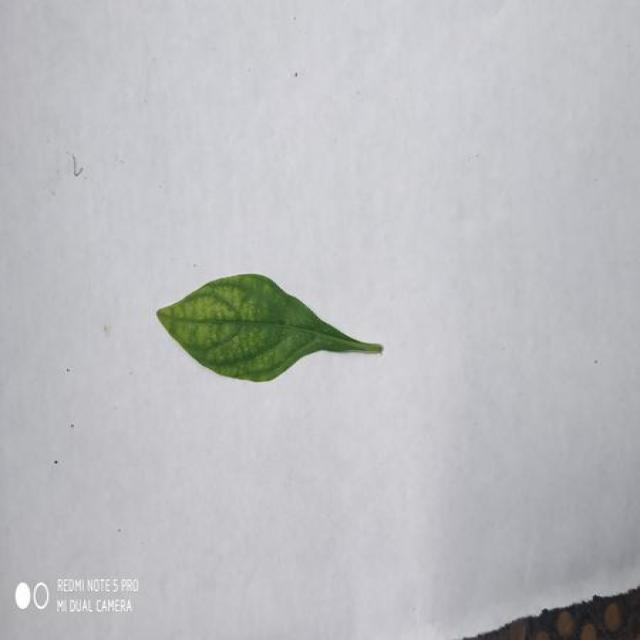Nelavembu: (157, 274, 383, 381)
